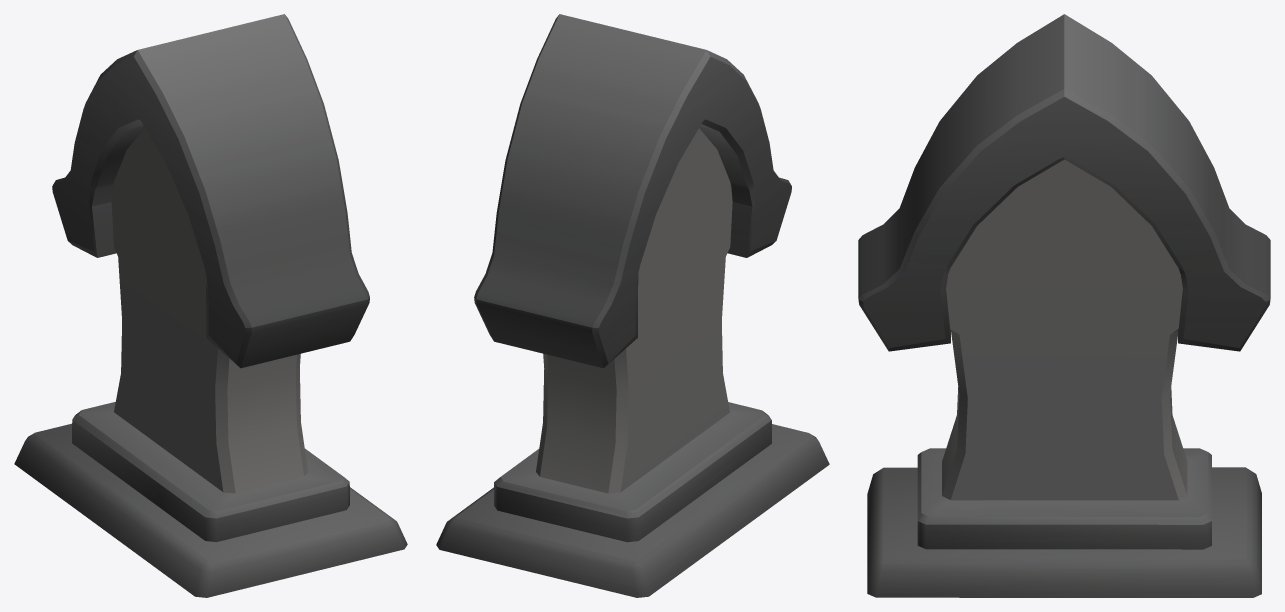
The model's file is Tombstone_6.glb.
The picture shows the model from 3 angles, left to right: view 1: azimuth 30°, elevation 25°; view 2: azimuth 150°, elevation 25°; view 3: azimuth 270°, elevation 25°; orthographic projection. The views are drawn at different scales.
Parts seen in each view (by area): view 1: Tombstone_6; view 2: Tombstone_6; view 3: Tombstone_6.
Part boxes in pixels (<box>): Tombstone_6: <box>14,14,407,597</box>; Tombstone_6: <box>436,14,829,597</box>; Tombstone_6: <box>858,14,1270,597</box>.
Size of the model in its own units: 0.2602 by 0.5526 by 0.4189.
1 material, 1 textured.
